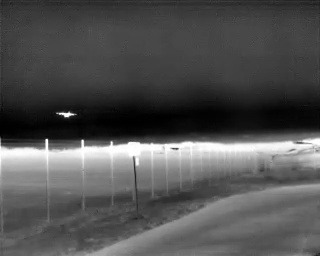AIRPLANE: (55, 108, 79, 120)
